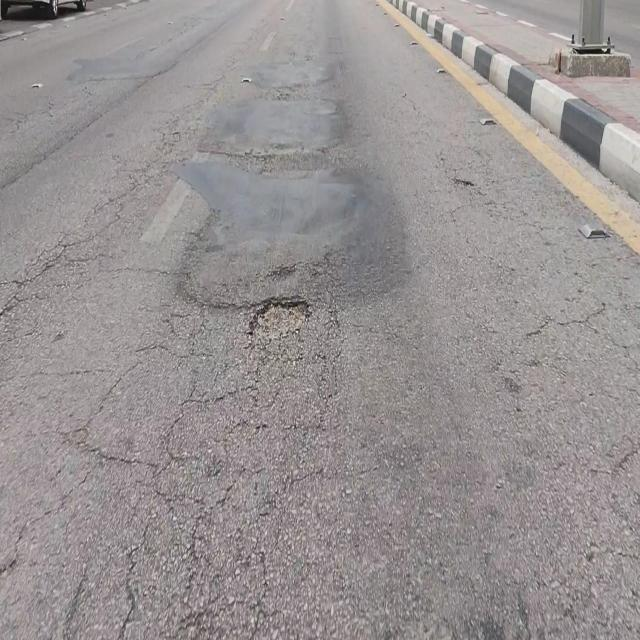Potholes: (252, 302, 307, 341)
